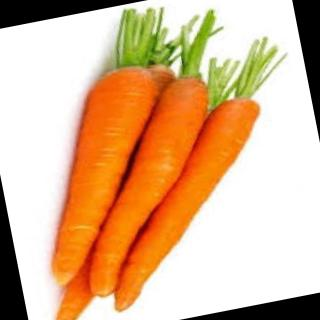Wortel: (46, 43, 248, 302), (76, 85, 296, 315), (10, 44, 197, 289)
